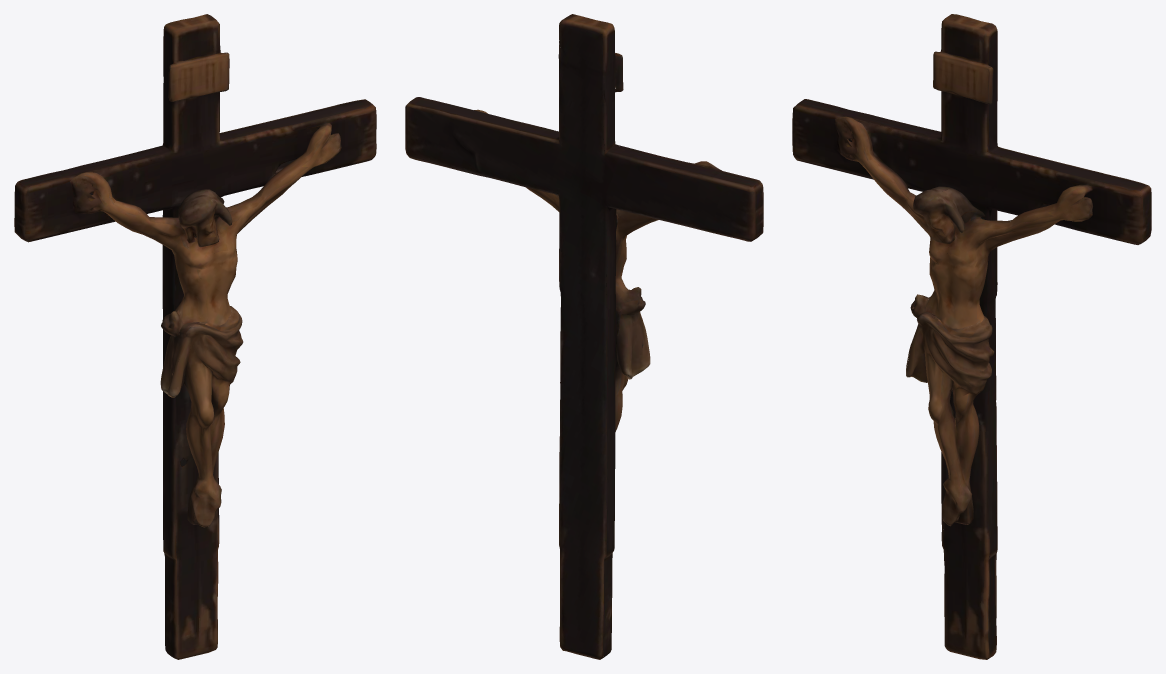
The model's file is crucifijo.glb.
3 views of the same model, side by side, from view 1: azimuth 30°, elevation 25°; view 2: azimuth 150°, elevation 25°; view 3: azimuth 330°, elevation 25° (orthographic).
Parts seen in each view (by area): view 1: geometry_0; view 2: geometry_0; view 3: geometry_0.
Boxes of the visible parts, x1,y1,x2,y2 form: geometry_0: [14, 14, 376, 659]; geometry_0: [405, 14, 763, 659]; geometry_0: [792, 14, 1151, 659].
Size of the model in its own units: 1.4 by 2.4 by 0.2498.
1 material, 1 textured.
